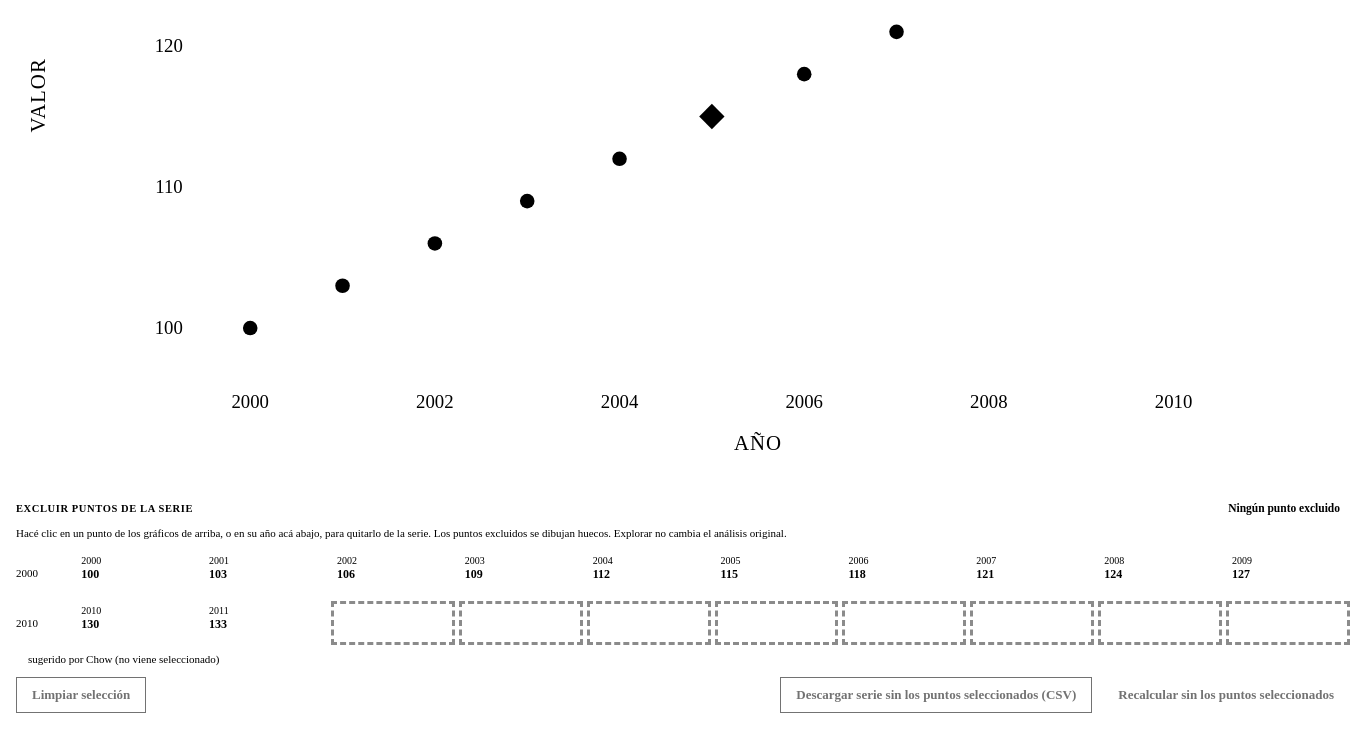
Test: Etapa1GraficosView — recalcular sin los puntos (A2) › con Etapa 2 en la respuesta, muestra el ranking sin esos puntos
(page scrolled)
Step 1. Click the button "2005 115" → (777,573), box left=715, top=551, right=838, bottom=595
(page scrolled)
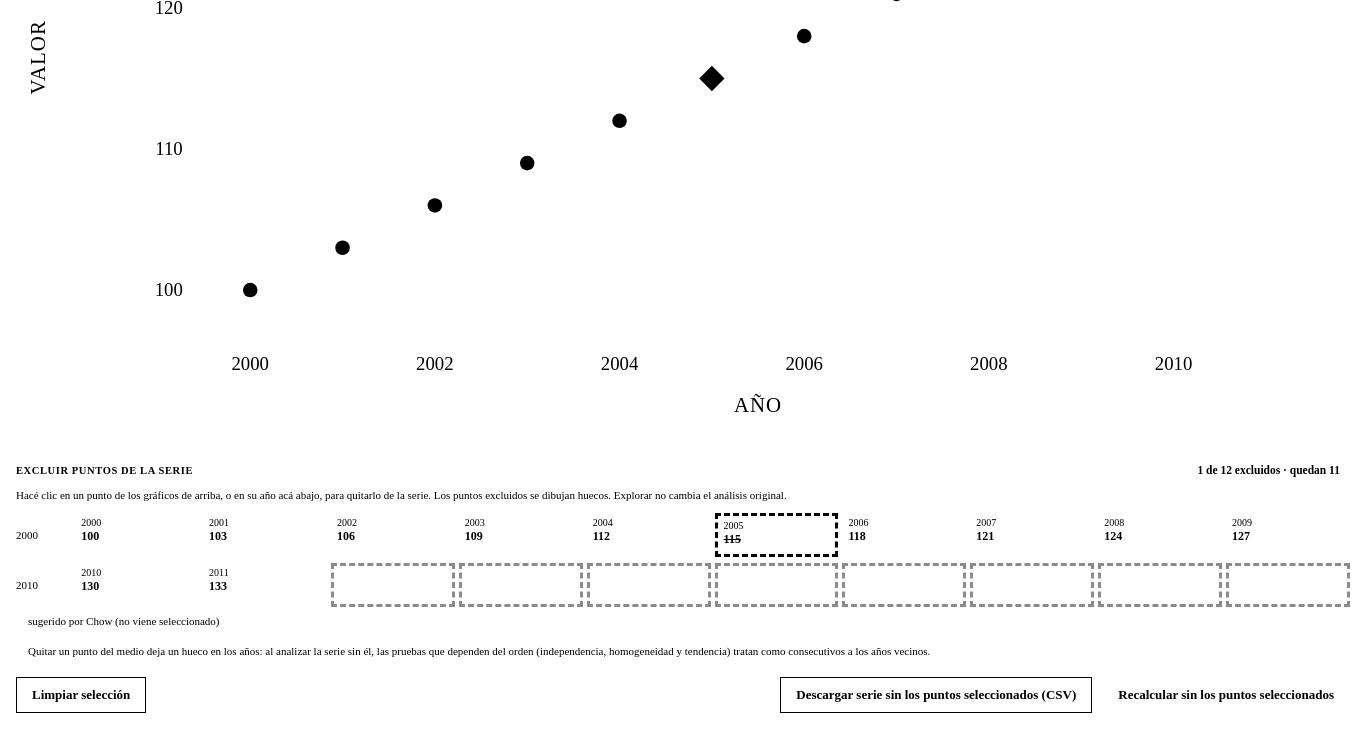
Step 2. Click the button "Recalcular sin los puntos seleccionados" → (1226,695), box left=1102, top=677, right=1350, bottom=713
(page scrolled)
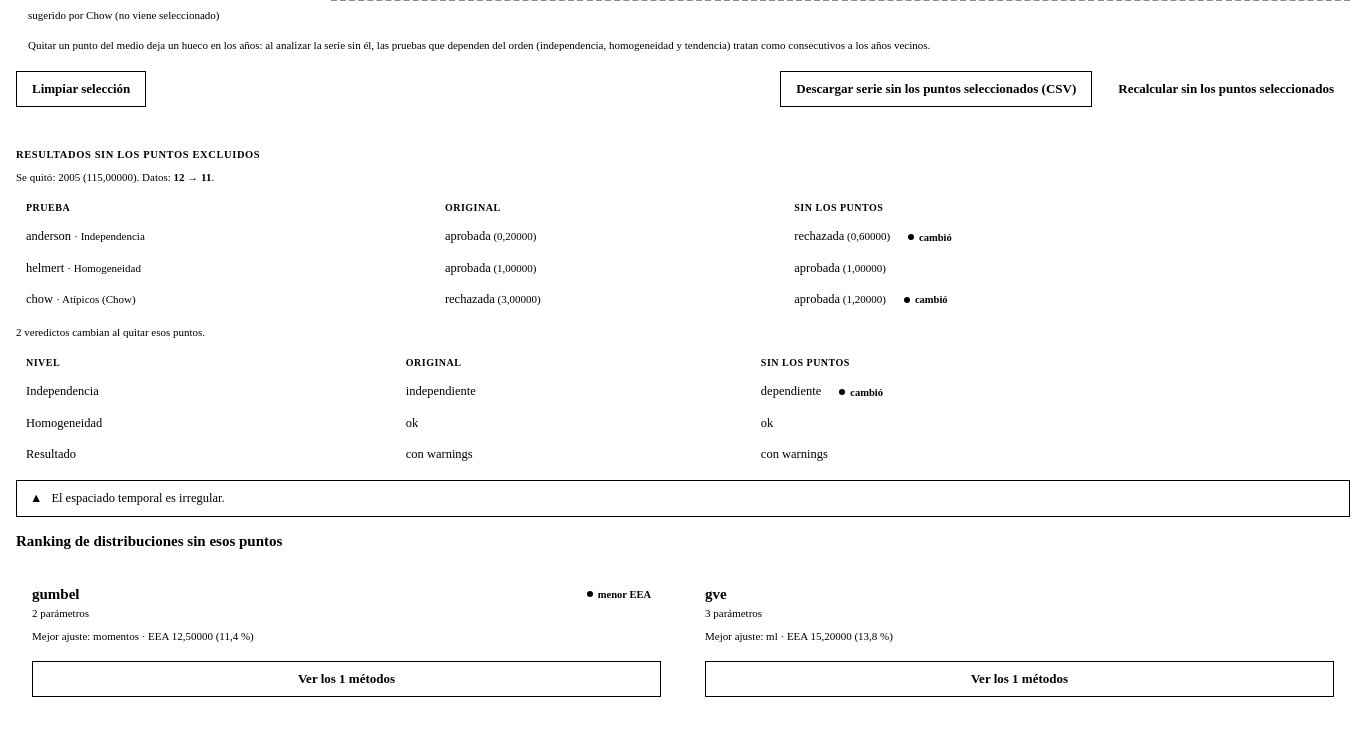
Result: the heading "Ranking de distribuciones sin esos puntos" is shown at left=16, top=532, right=282, bottom=548
